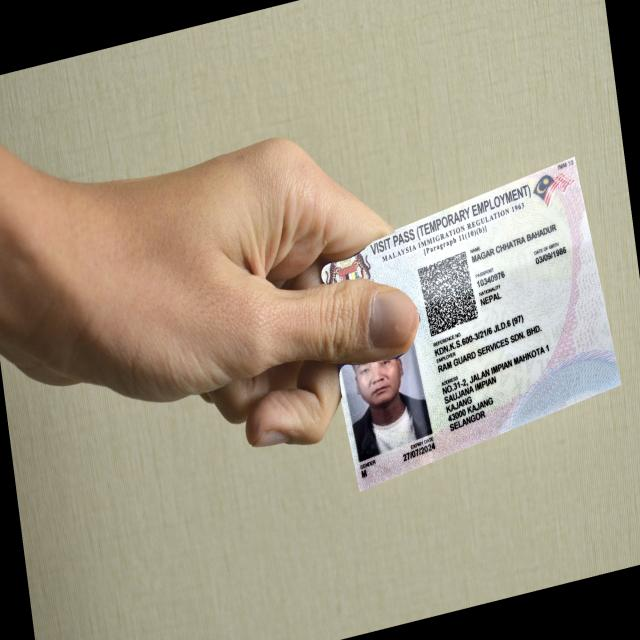ikad-temp: (320, 155, 622, 492)
